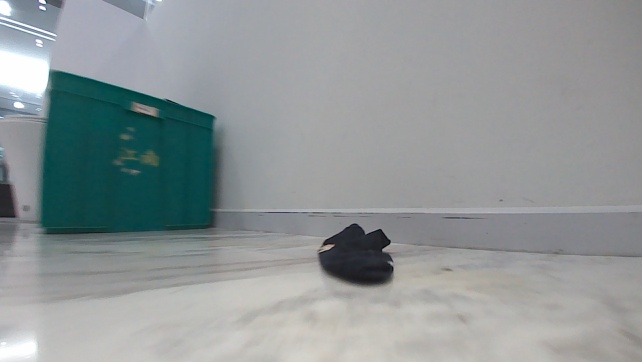socks: (317, 220, 395, 285)
toilet: (0, 112, 50, 224)
